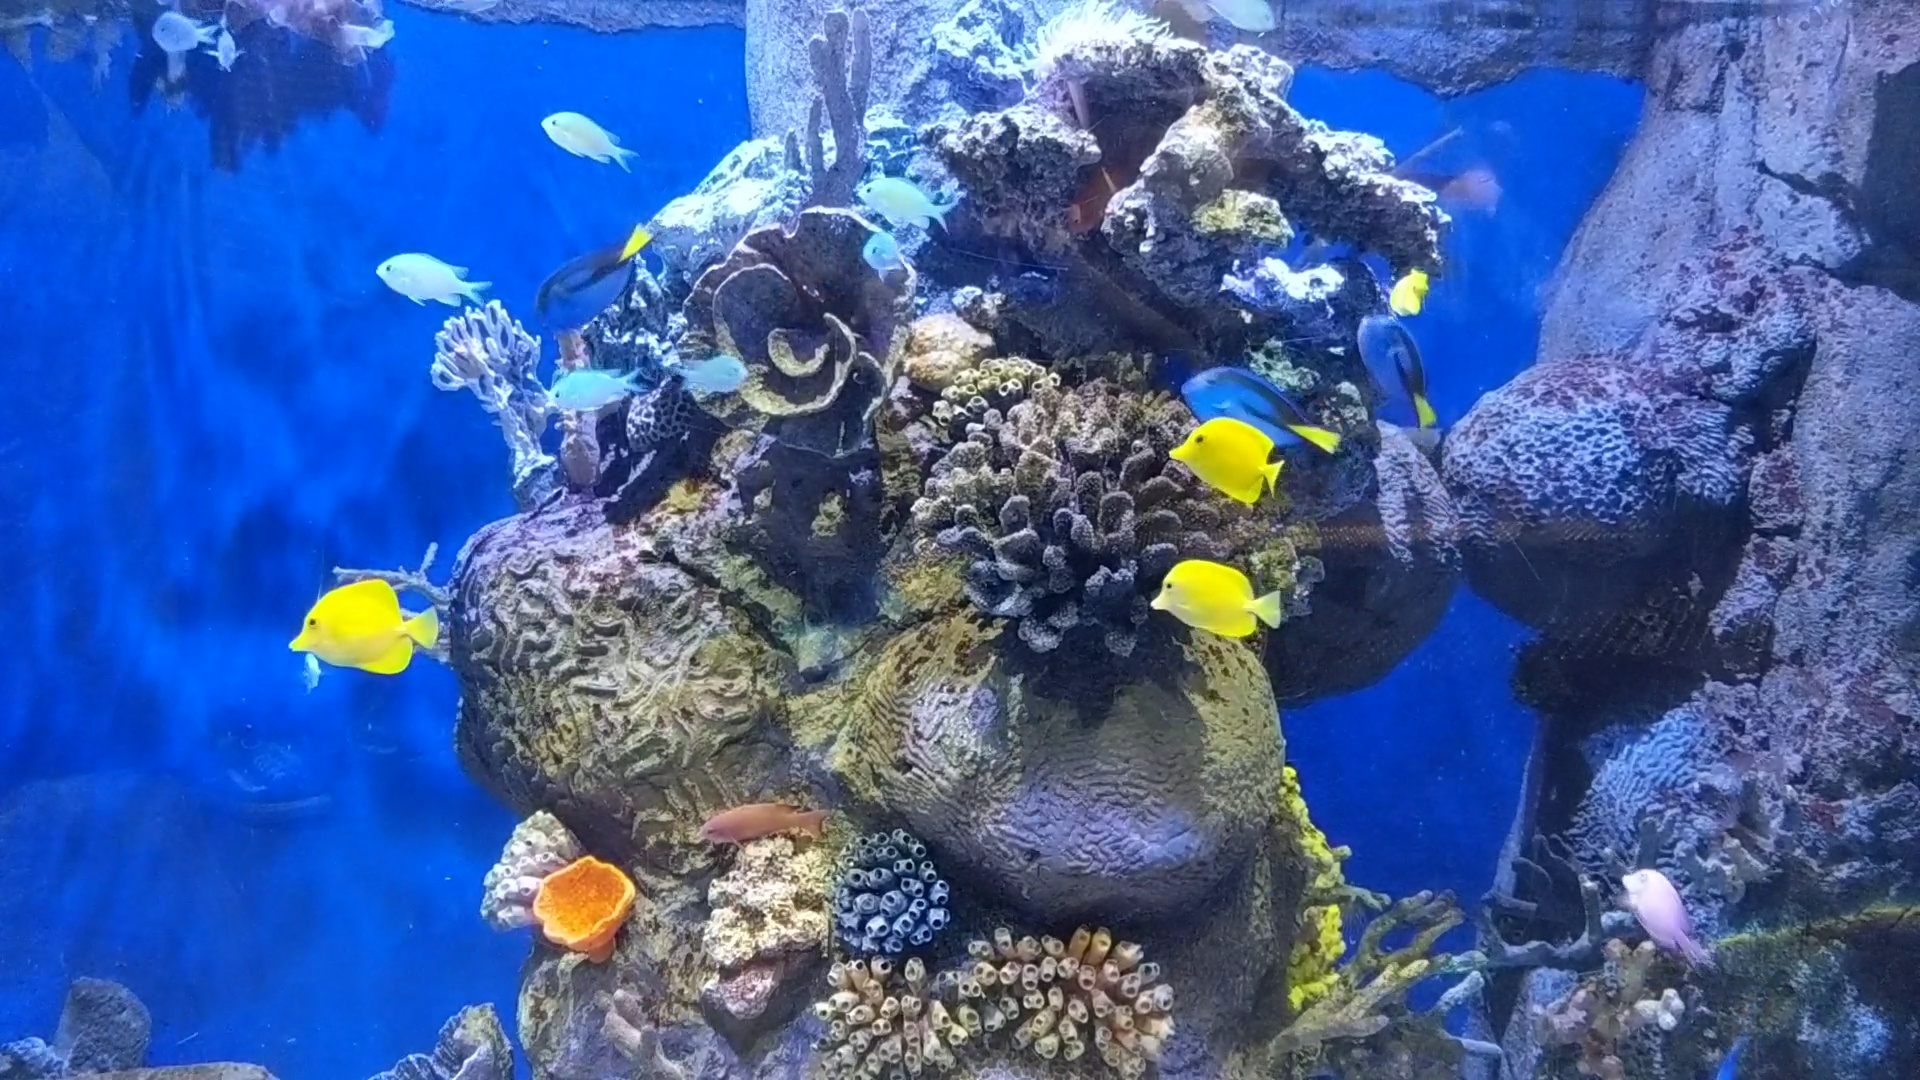blue tang surgeonfish: (1149, 360, 1344, 460), (520, 218, 669, 336), (1342, 298, 1444, 433)
damselfish: (357, 237, 506, 332), (524, 103, 642, 181), (849, 167, 959, 233), (673, 334, 749, 407), (530, 363, 640, 411), (853, 219, 915, 282), (137, 13, 212, 51), (212, 25, 244, 71)
pink fish: (1614, 855, 1722, 977)
saddle butterfly fish: (272, 572, 450, 686), (1147, 394, 1302, 516), (1129, 531, 1288, 647)
